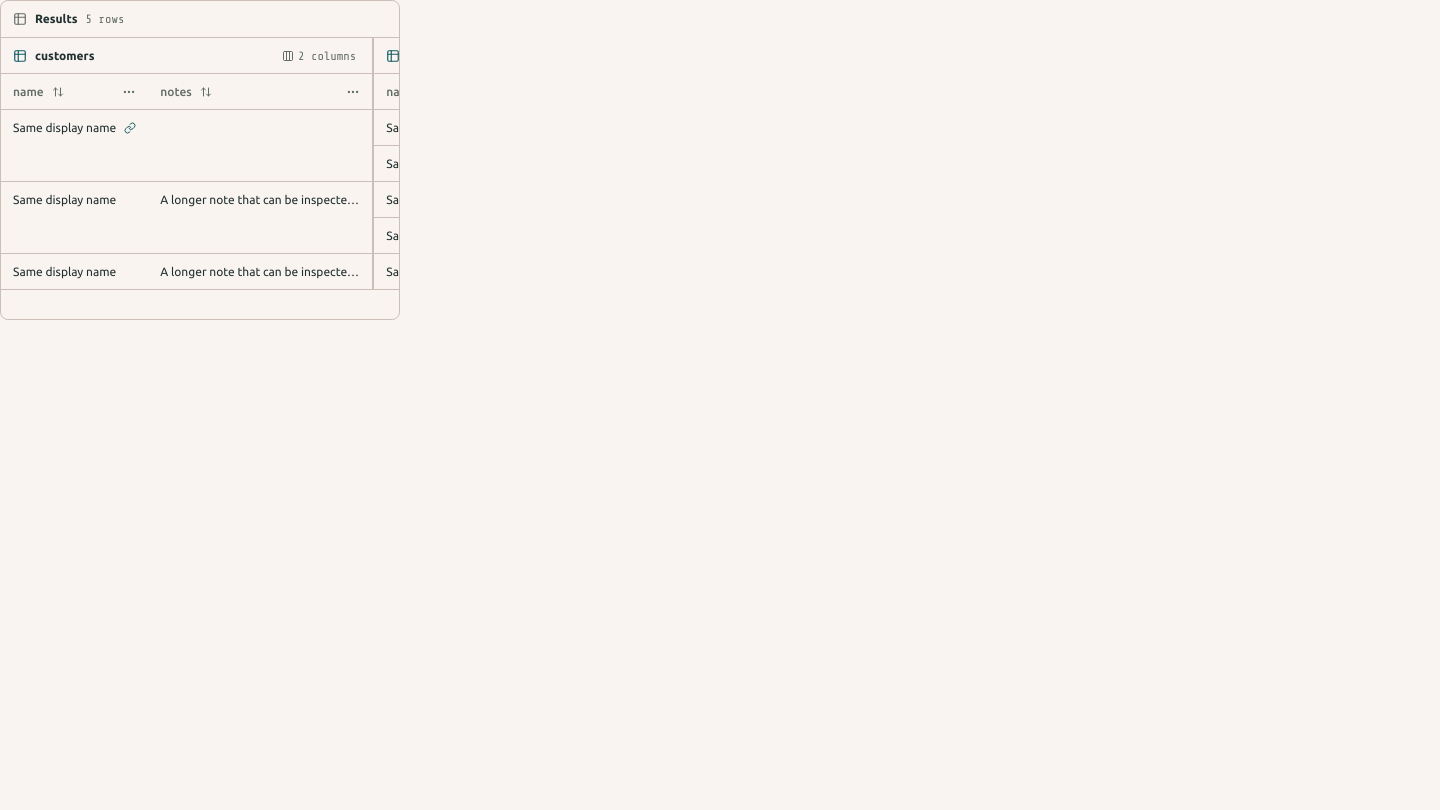
Scenario: follows foreign keys and safely displays empty values
Click the button with aria-label "Follow relationship from customers, name: Same display name" at {"x": 75, "y": 146}, box left=1, top=110, right=148, bottom=181
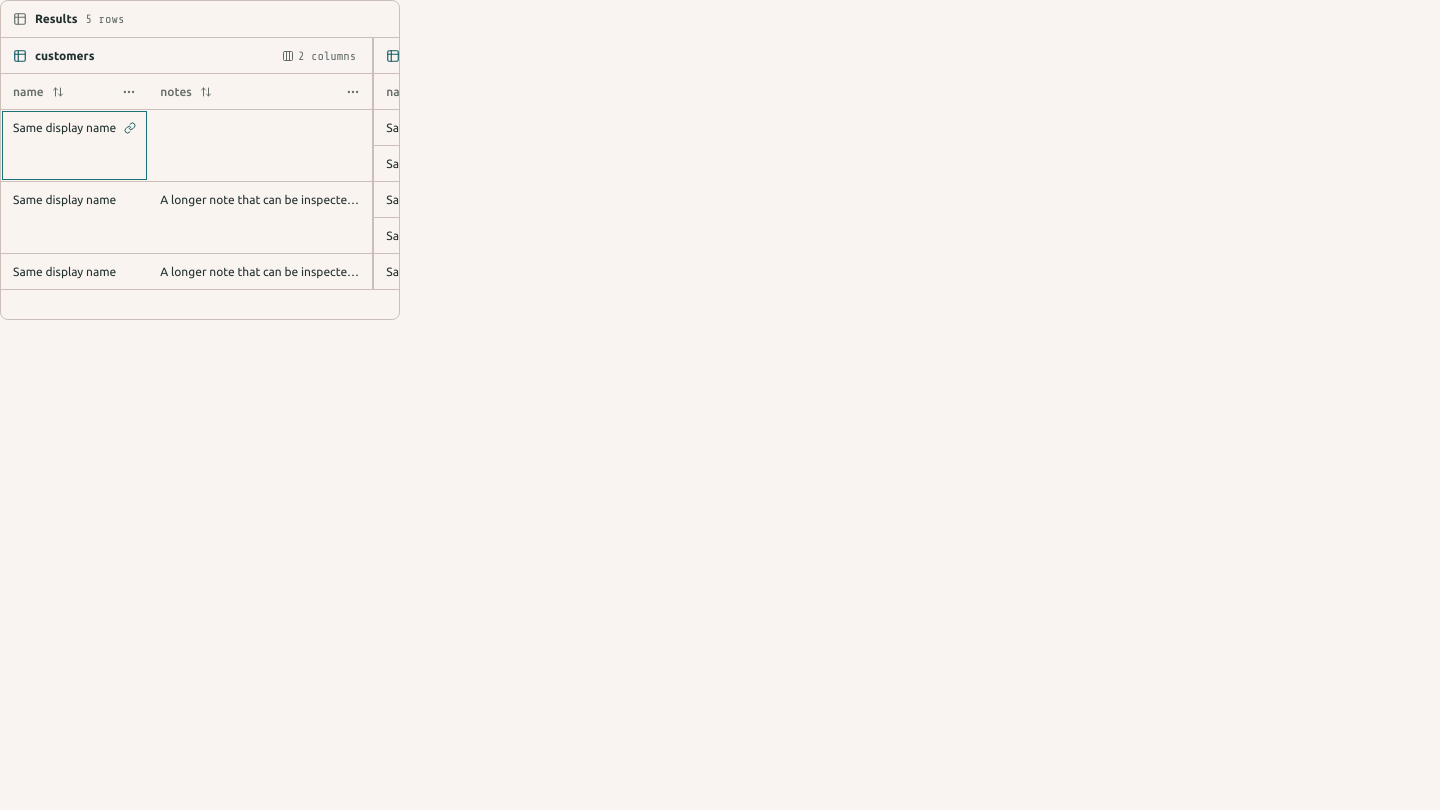
Click the button named "customers, notes:" at {"x": 260, "y": 146}, box left=148, top=110, right=372, bottom=181
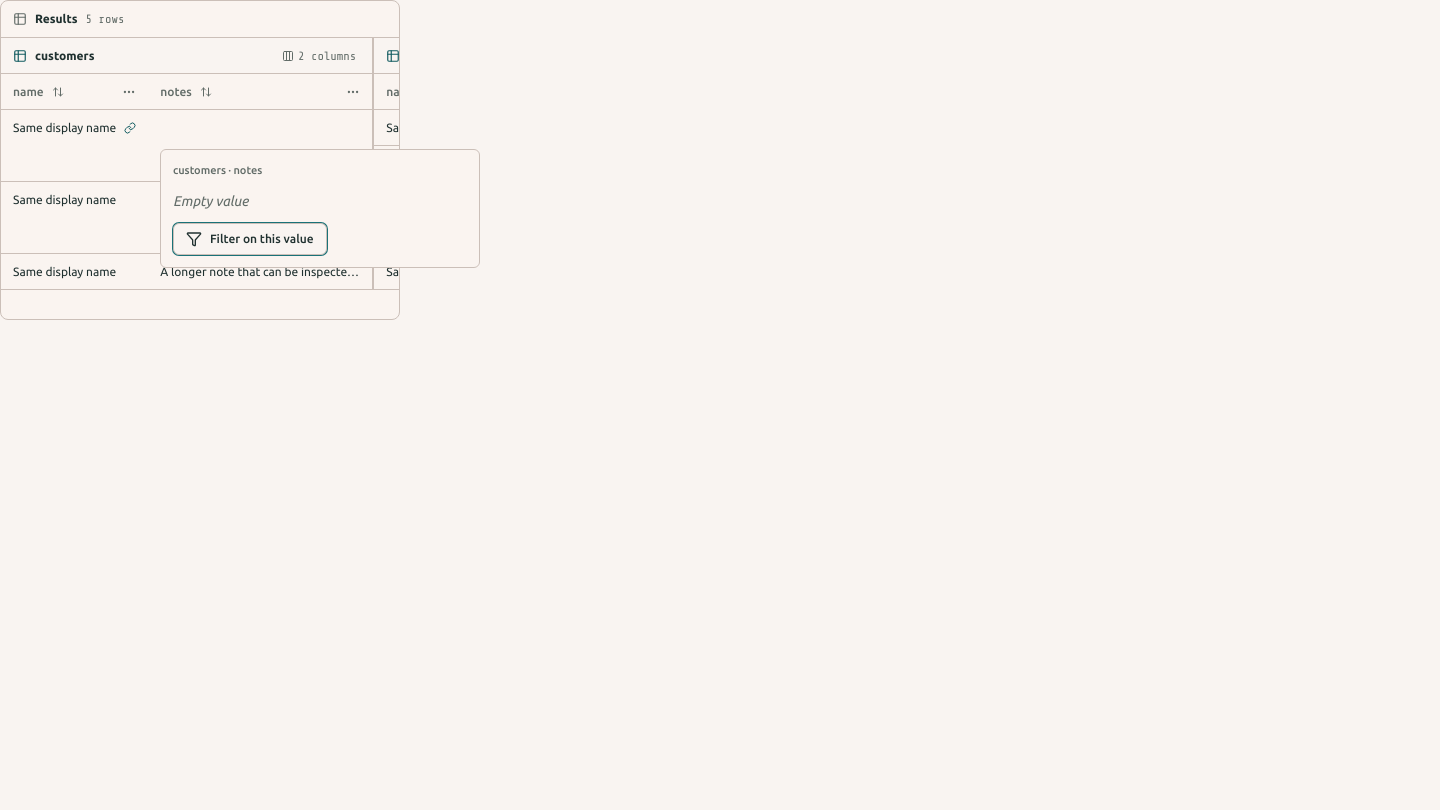
Expected: the dialog shows "Empty value", left=173, top=192, right=248, bottom=208
